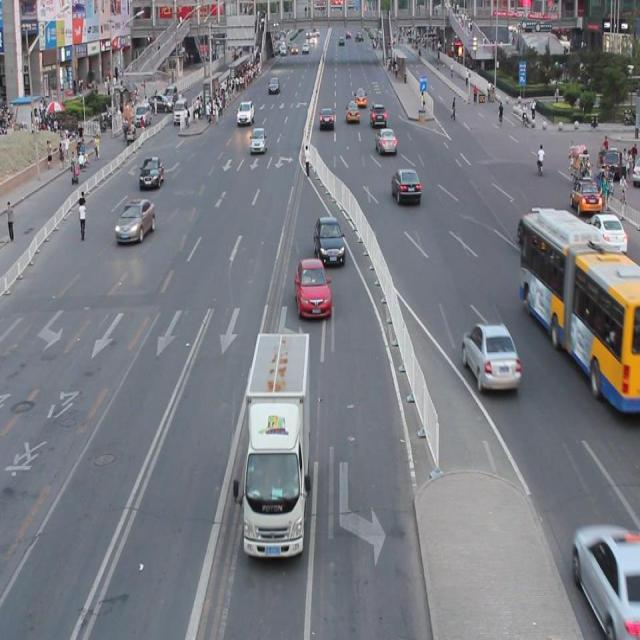bus: (241, 332, 310, 555)
car: (572, 521, 640, 640), (462, 319, 519, 391), (294, 259, 331, 318), (116, 198, 155, 242), (516, 208, 555, 251), (584, 211, 625, 251), (314, 215, 344, 265), (391, 166, 420, 204), (569, 177, 600, 212), (138, 156, 164, 190)
van: (520, 210, 640, 411)
